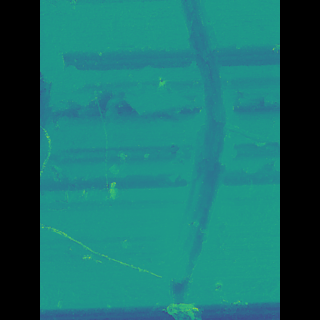Loch: (162, 0, 218, 312)
